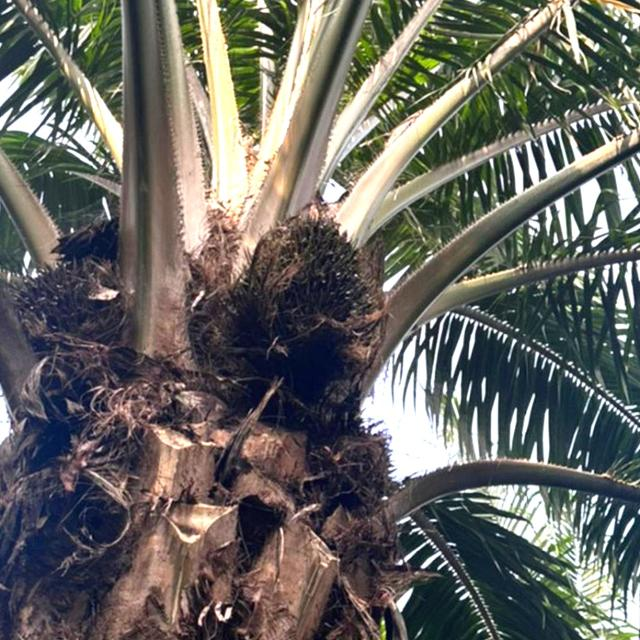unripe: (229, 204, 394, 384)
